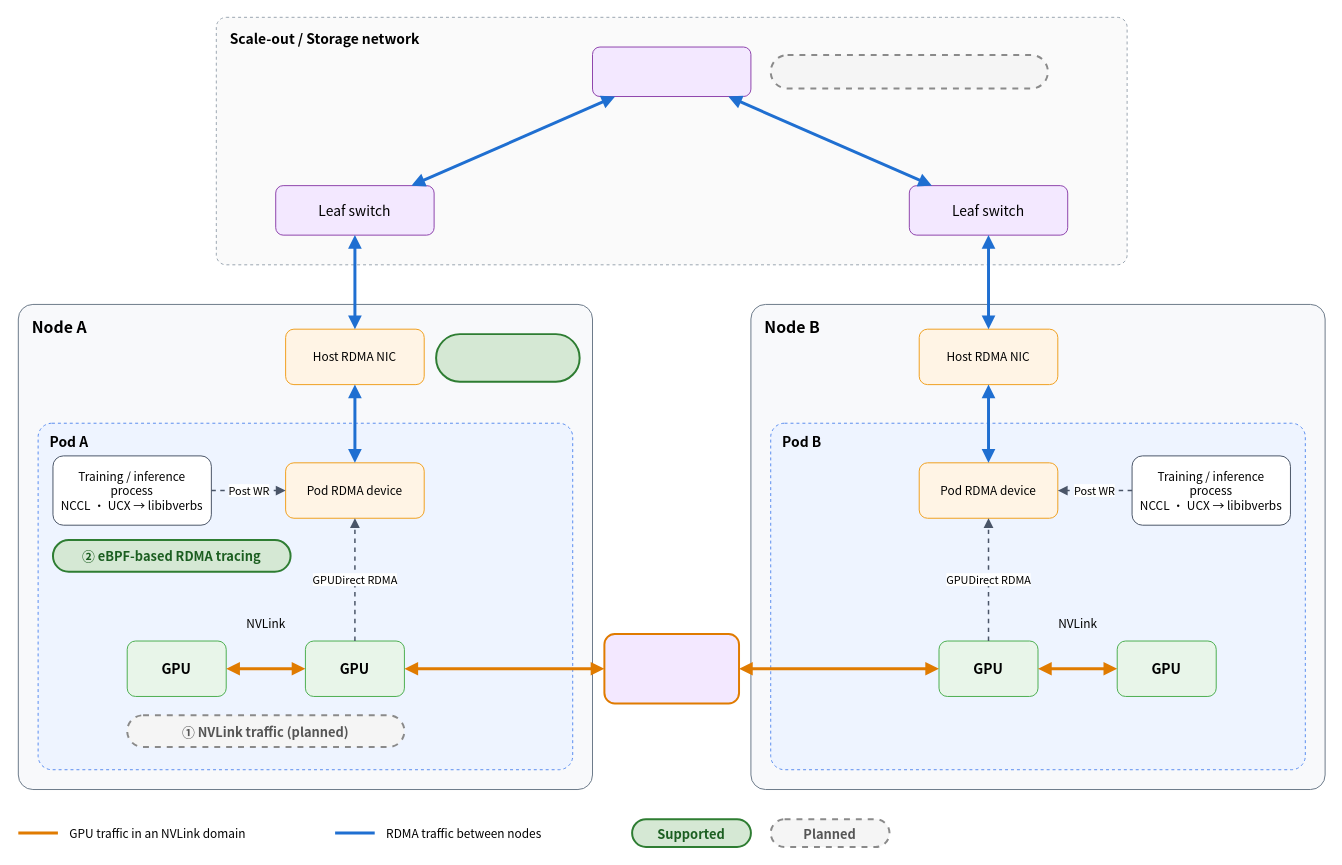
Some shapes in this 1342 by 865 pixel diagram are drawn without their labels. The centre of each missing label's shape, as x and y in pixels:
NVLink Switch multi-node NVLink domain, e.g. NVL72: (x=671, y=668)
Spine switch: (x=671, y=71)
③ Host and Pod RDMA NICs: (x=507, y=357)
④ Switch RDMA traffic (planned): (x=908, y=71)
